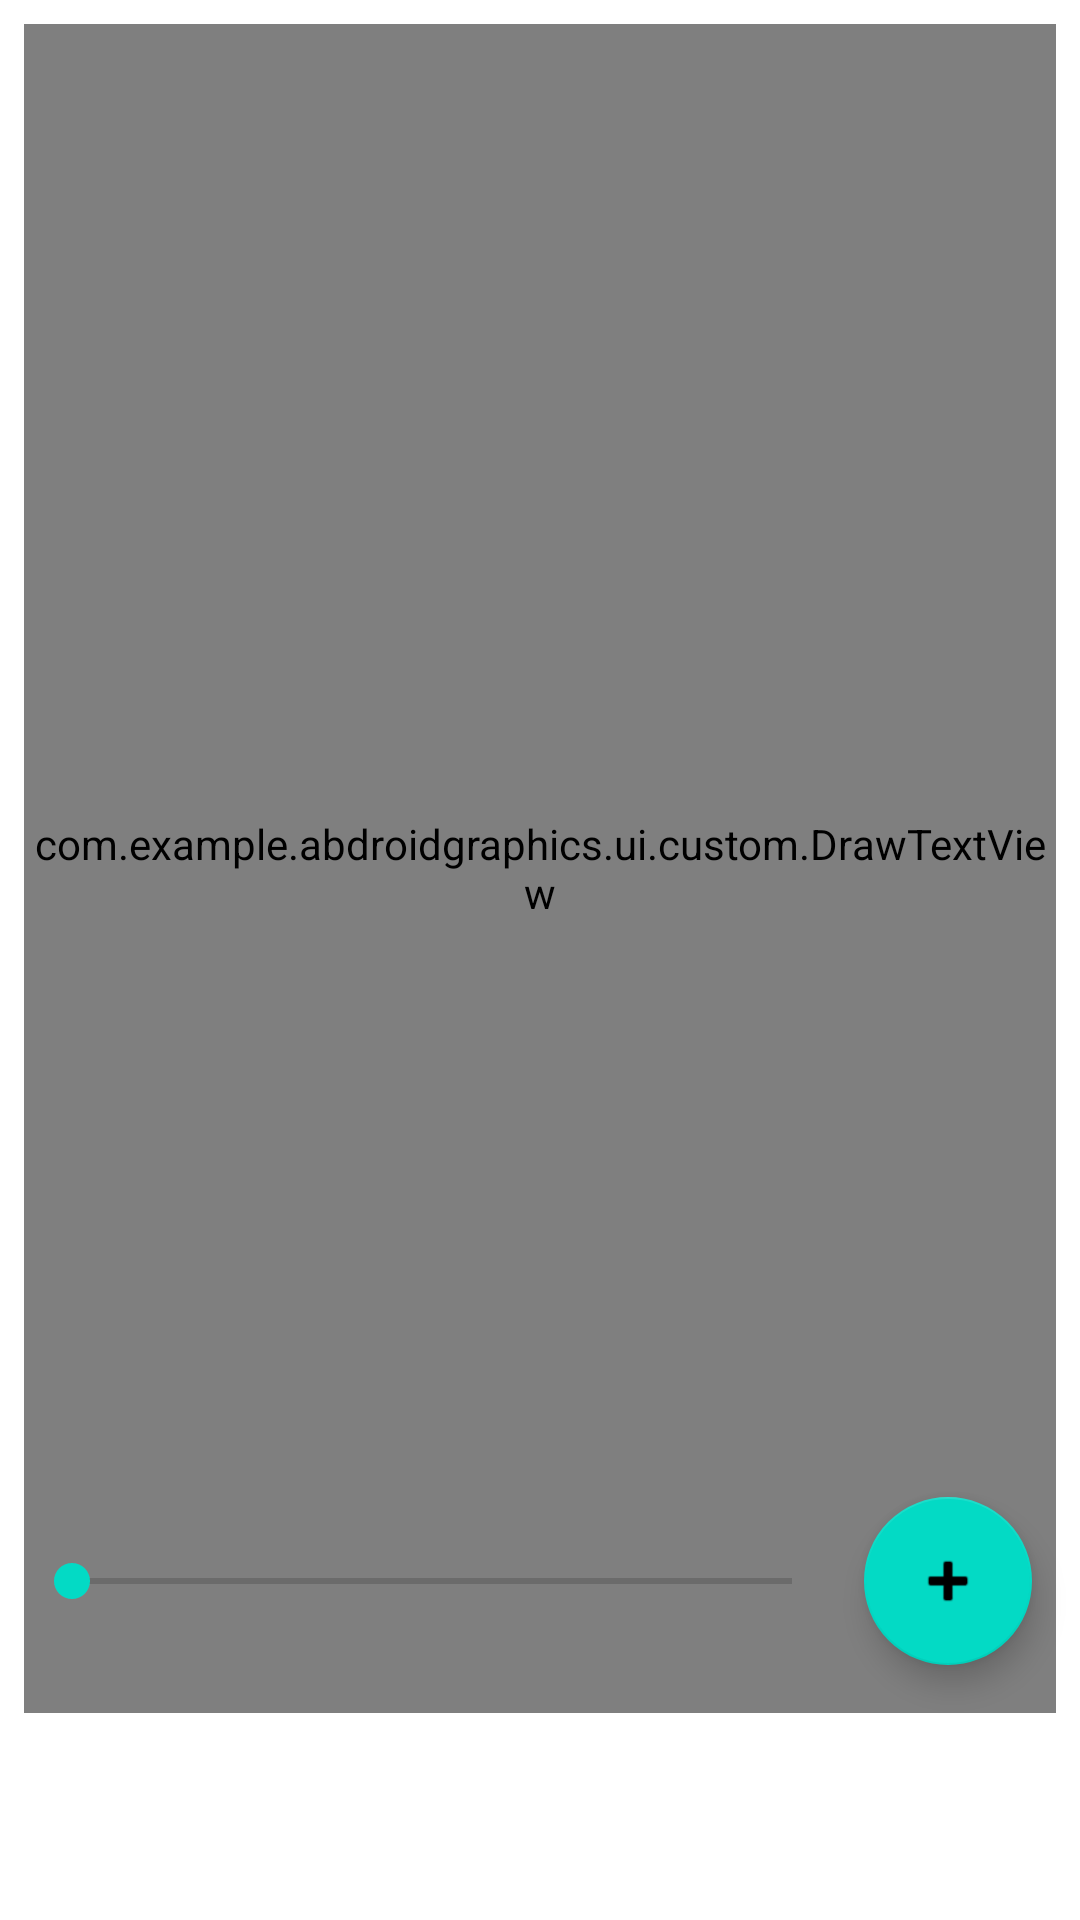

Icons on this 1080*1920 Android screen, each with its box as (x1, y1, x2, y2):
add: (864, 1497, 1032, 1665)
